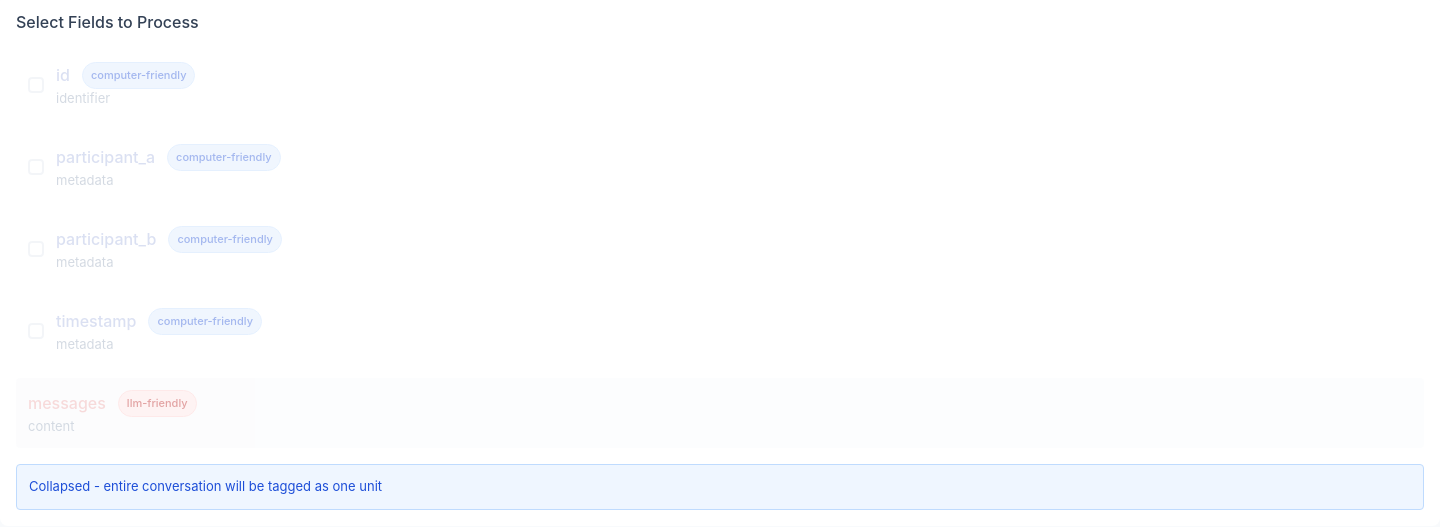
Test: FieldSelector Component › Messages Field Collapse Functionality › should show uncollapse tooltip when messages field is collapsed
Hover over the element with test id "field-messages" at (720, 413), box [16, 378, 1424, 448]
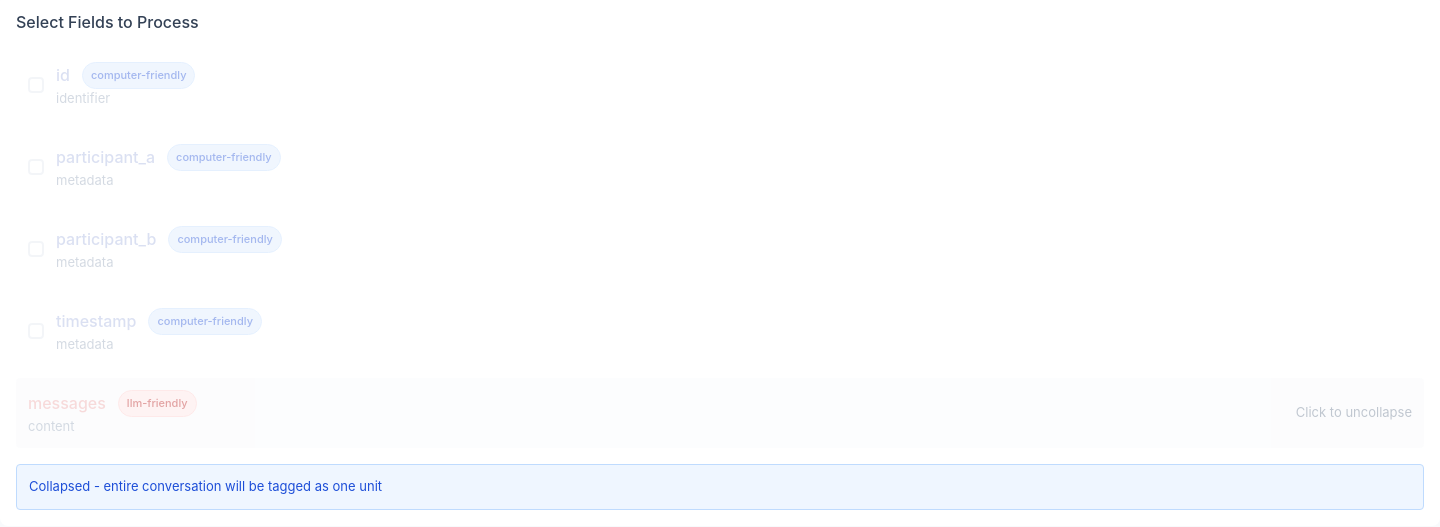
Result: the text "Click to uncollapse" is shown at [1296, 403, 1412, 423]
